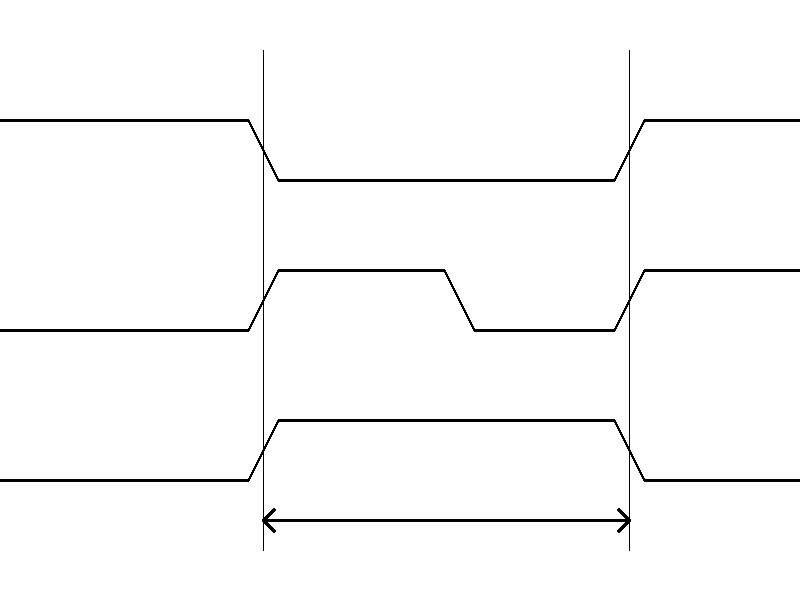double_arrow: (263, 505, 629, 535)
